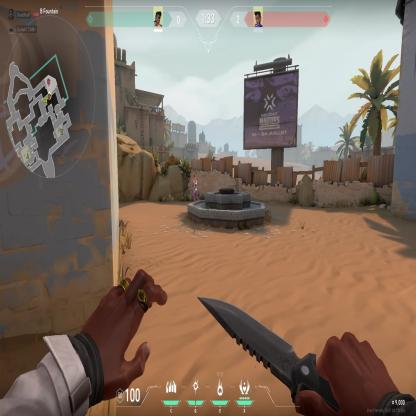enemy: (191, 174, 199, 202)
